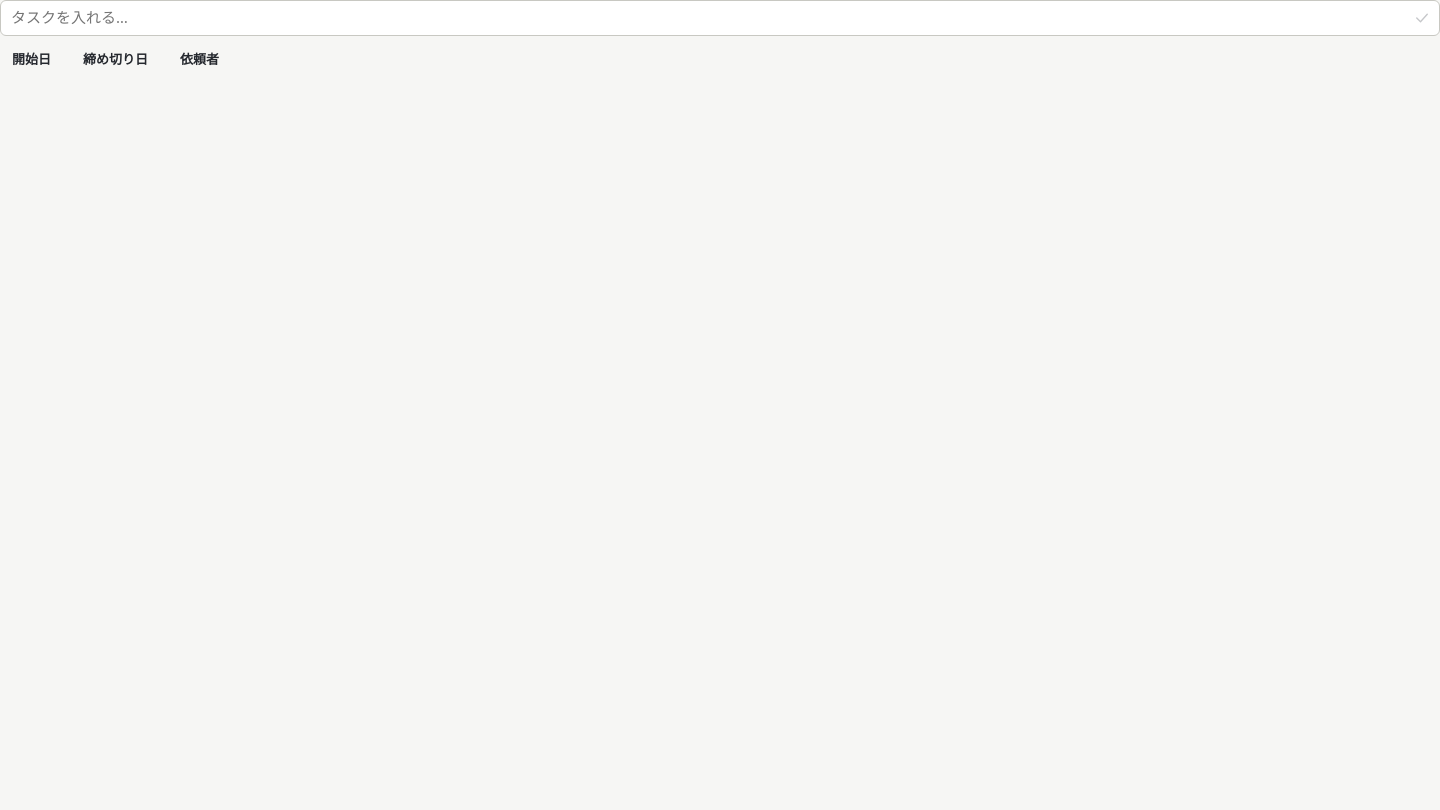
Test case: 入力欄（13.2） › 土曜は［締め切り日］の「来週金曜」で次の金曜。締め切り日より後の開始日を選ぶと締め切り日もそろう（6.3・S3-TASK-058・063）
The image size is (1440, 810).
Click the button with test id "task-chip-due": click(116, 60) left=72, top=45, right=159, bottom=75
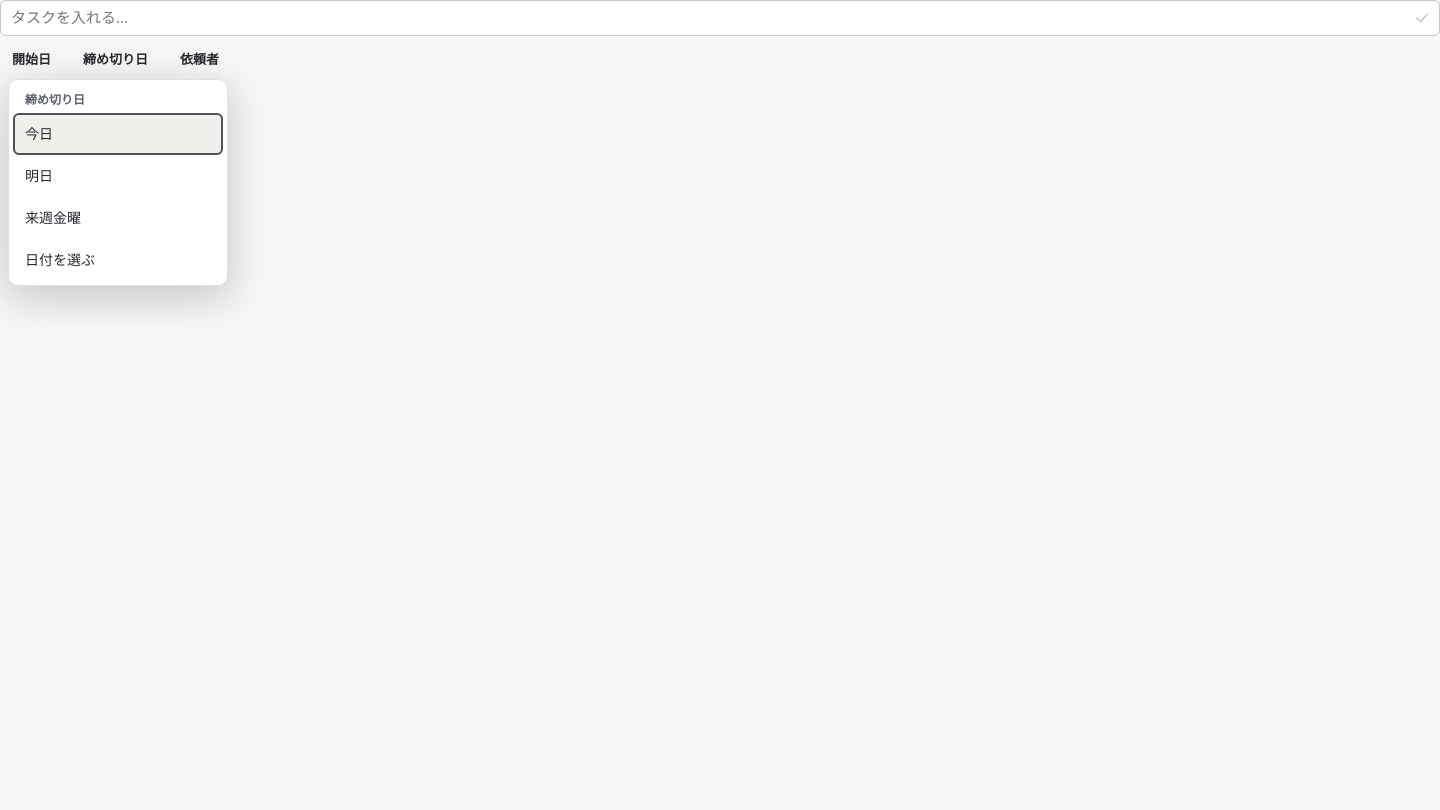
Click the menu item "来週金曜": click(118, 218) left=13, top=197, right=223, bottom=239
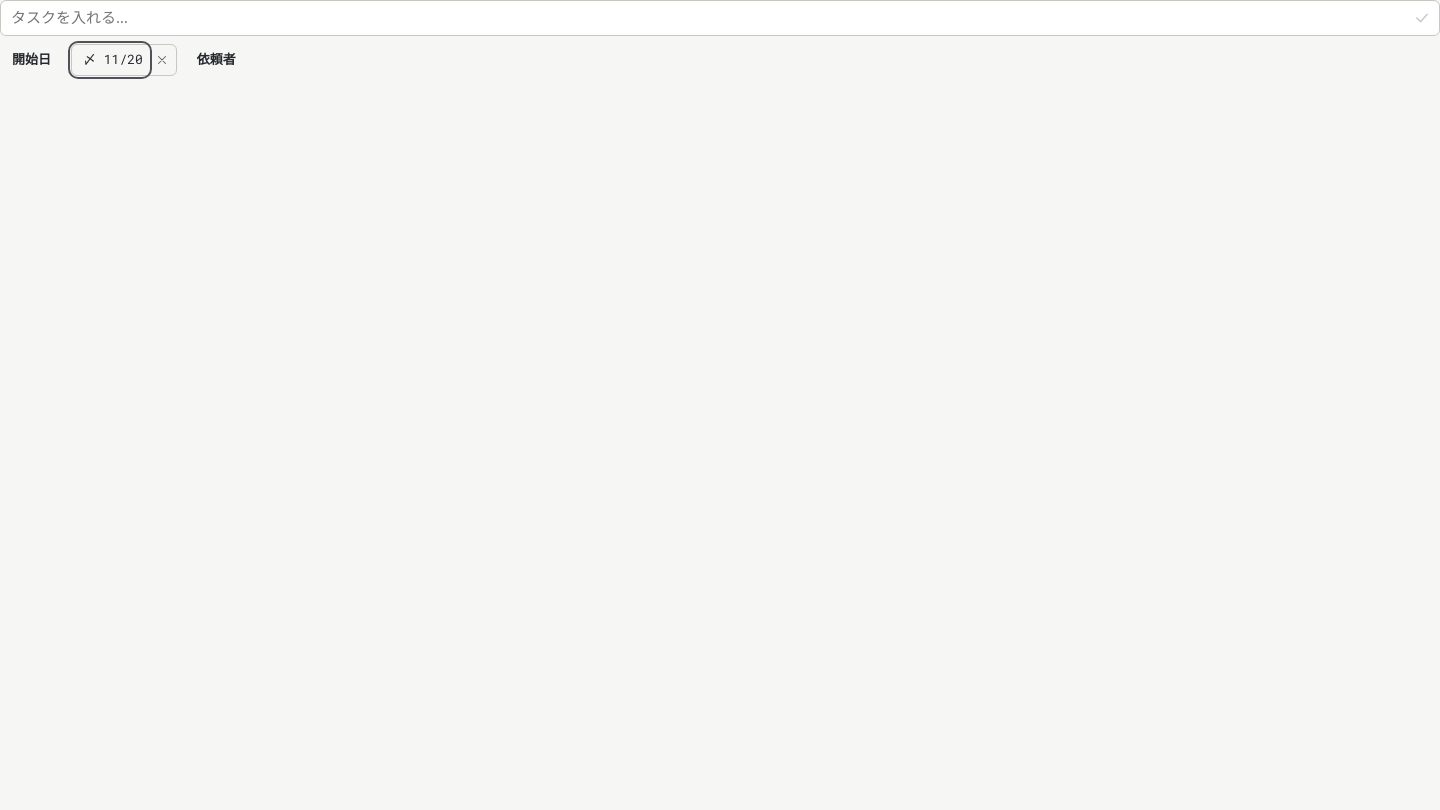
Check: the button with test id "task-chip-due" reads "〆 11/20", box left=72, top=45, right=148, bottom=75
Note: 開始日を 11/20 より後（日付を選ぶ → 11/25）にすると、締め切り日も 11/25
Click the button with test id "task-chip-start": click(32, 60) left=1, top=45, right=62, bottom=75
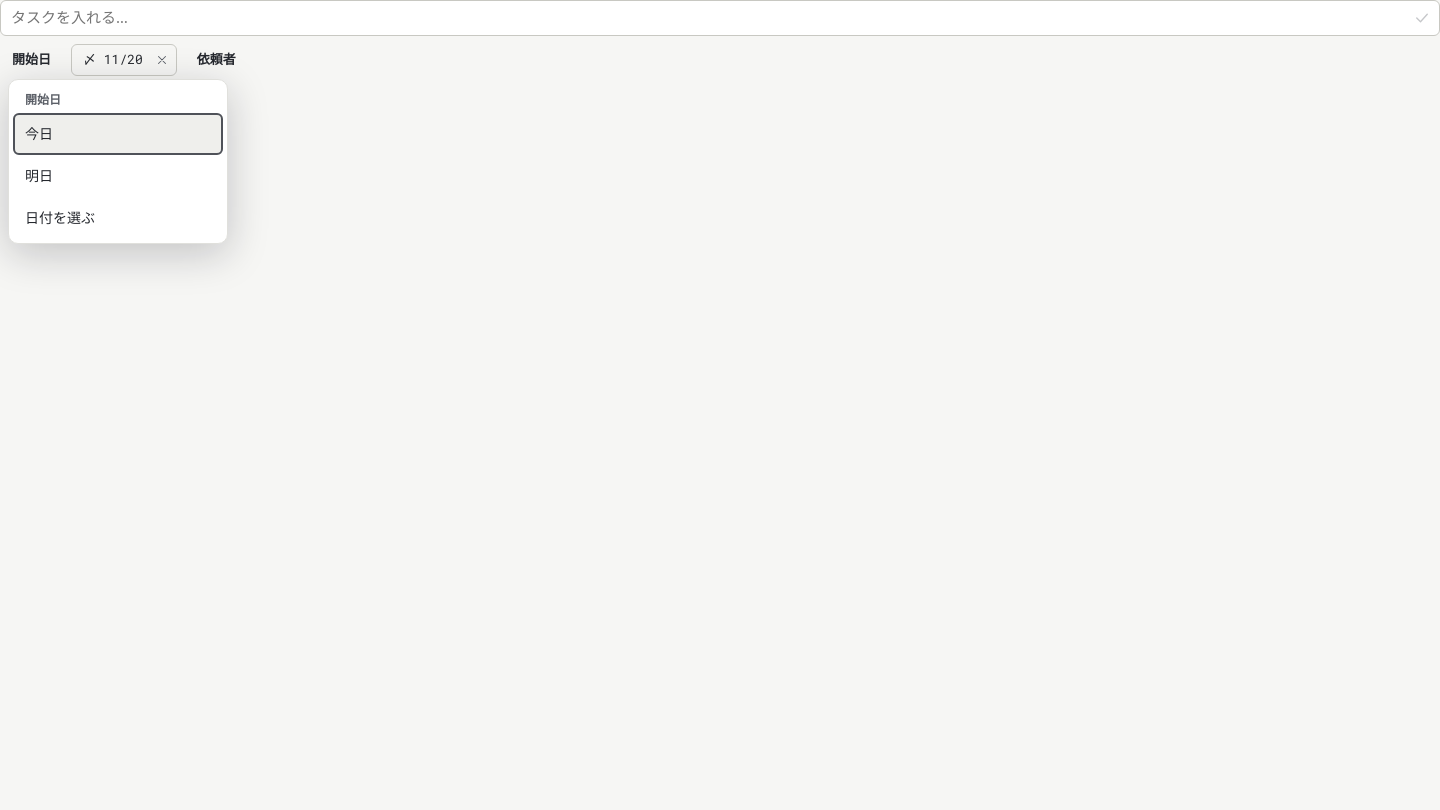
Click the menu item with aria-label "開始日を選ぶ": click(118, 218) left=13, top=197, right=223, bottom=239
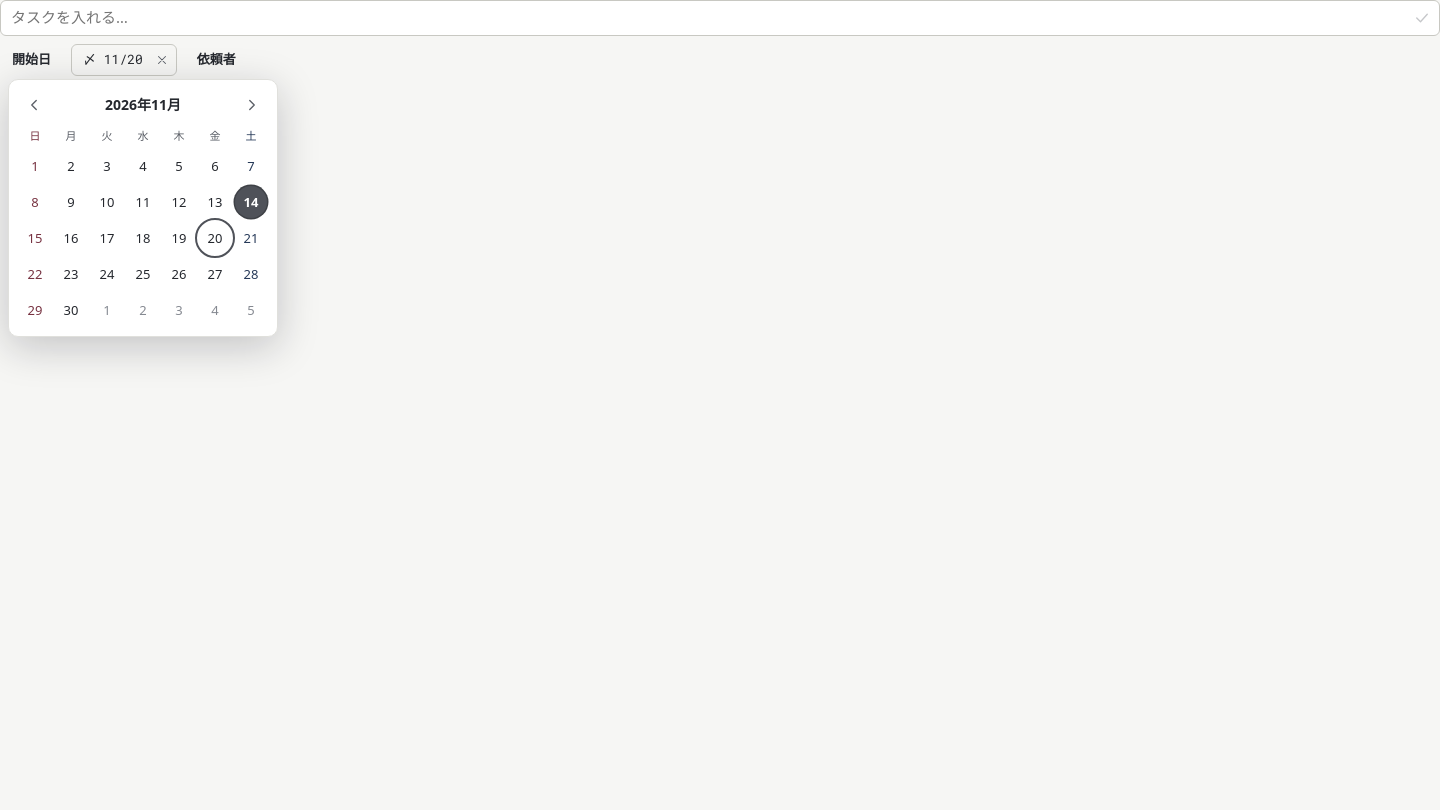
Click the button named "11月25日": click(143, 274) left=127, top=258, right=159, bottom=290
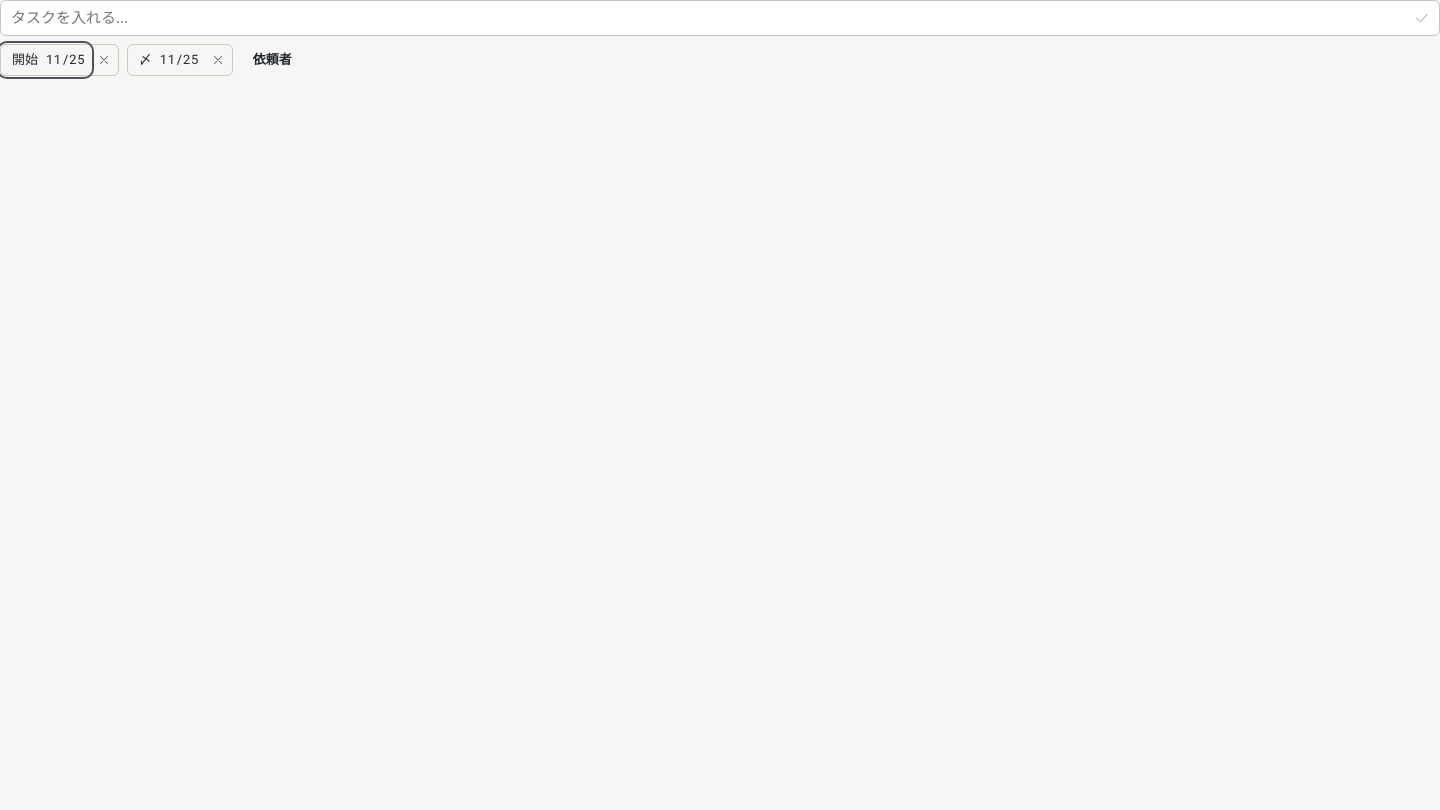
Check: the button with test id "task-chip-start" reads "開始 11/25", box left=1, top=45, right=90, bottom=75
Check: the button with test id "task-chip-due" reads "〆 11/25", box left=128, top=45, right=204, bottom=75
Click the 3rd button: click(104, 60) left=90, top=46, right=118, bottom=74
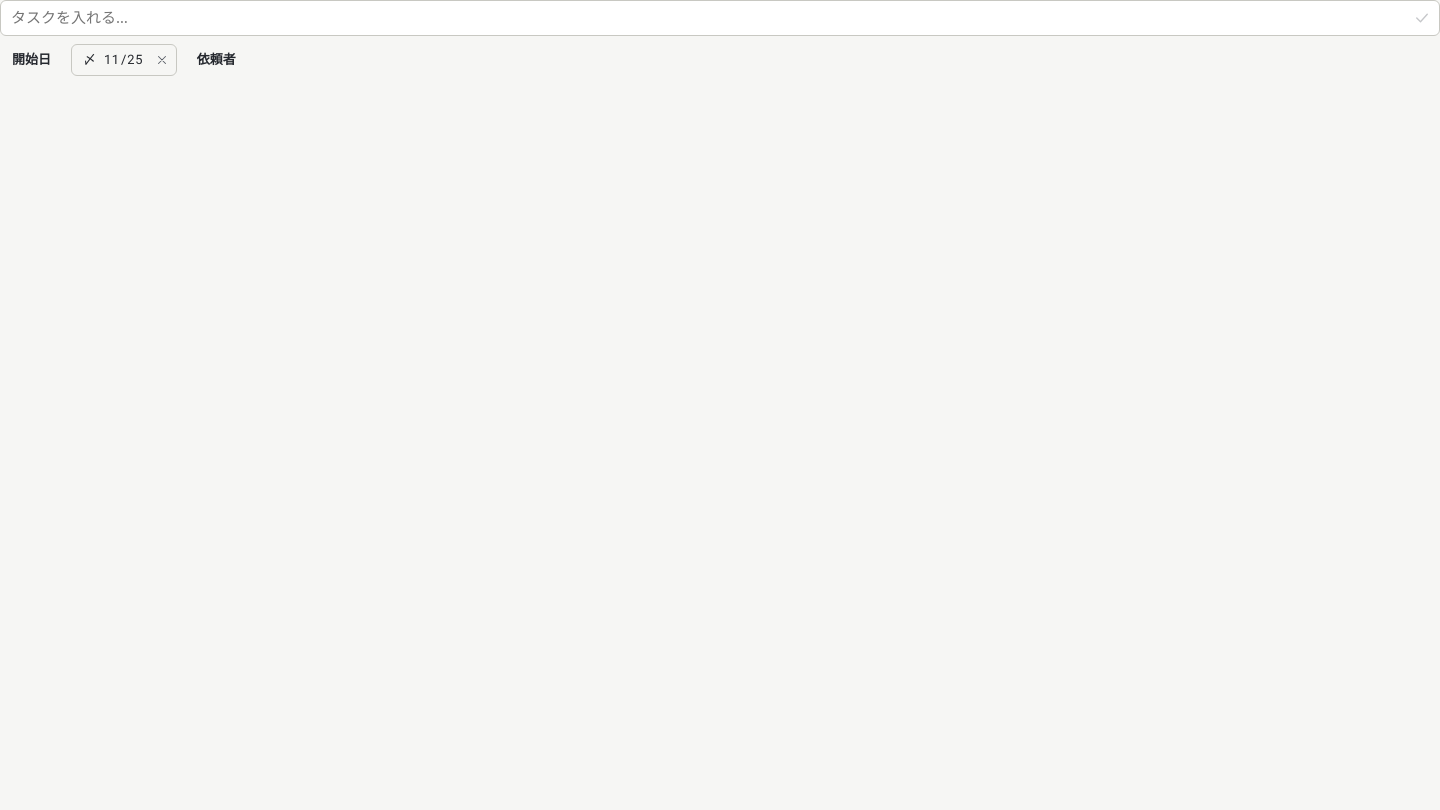
Check: the button with test id "task-chip-due" reads "〆 11/25", box left=72, top=45, right=148, bottom=75
Check: the button with test id "task-chip-start" reads "開始日", box left=1, top=45, right=62, bottom=75
